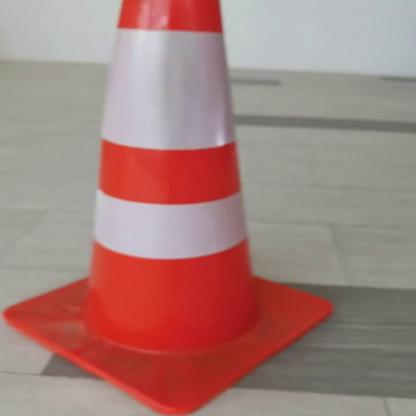cone: (2, 1, 346, 416)
